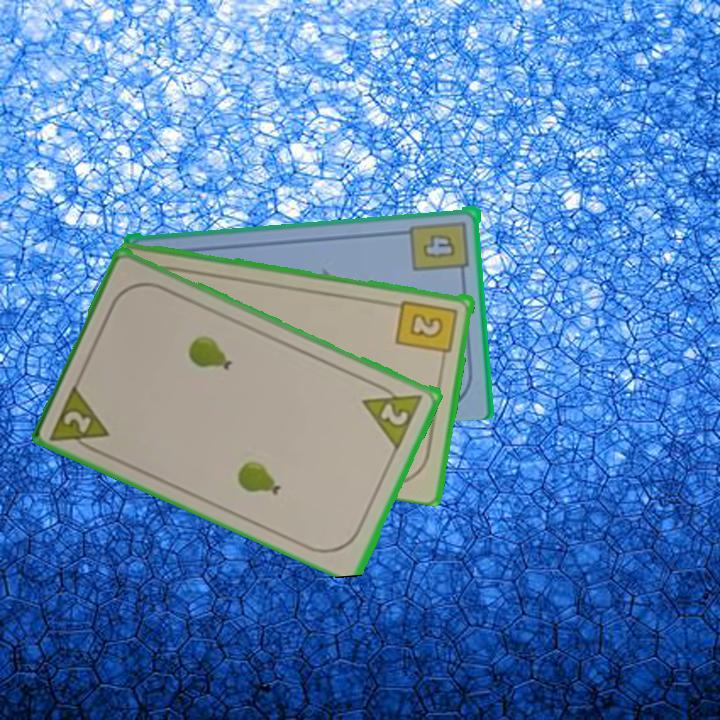2b: (393, 296, 461, 365)
2p: (47, 380, 113, 458), (359, 377, 427, 451)
4b: (408, 217, 473, 279)
